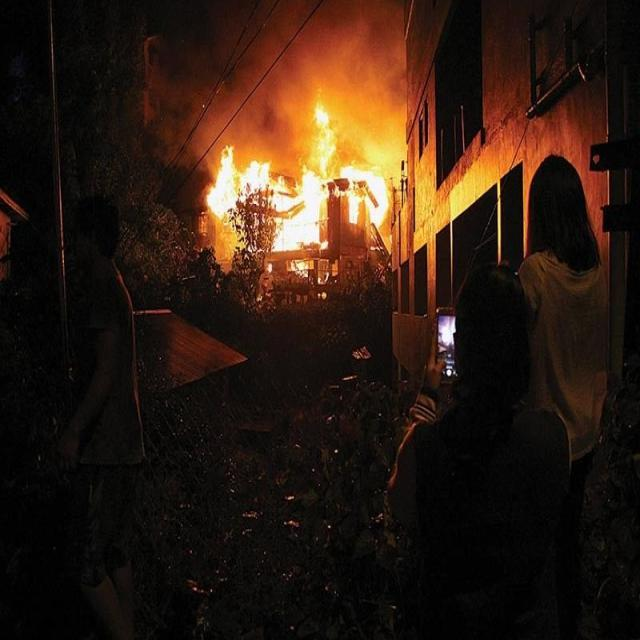Fire: (208, 112, 430, 255)
Smoke: (240, 5, 404, 174)
